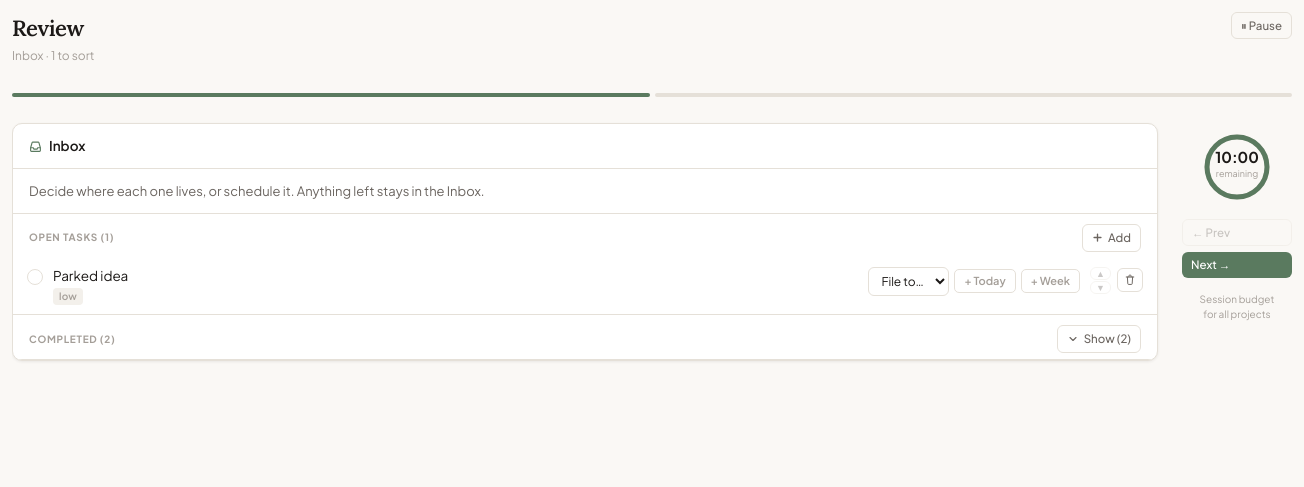
Test: ReviewView completed tasks › opens the whole list on request, and searches it
Click the button "Show (2)" at [1099, 339], box [1057,326,1141,353]
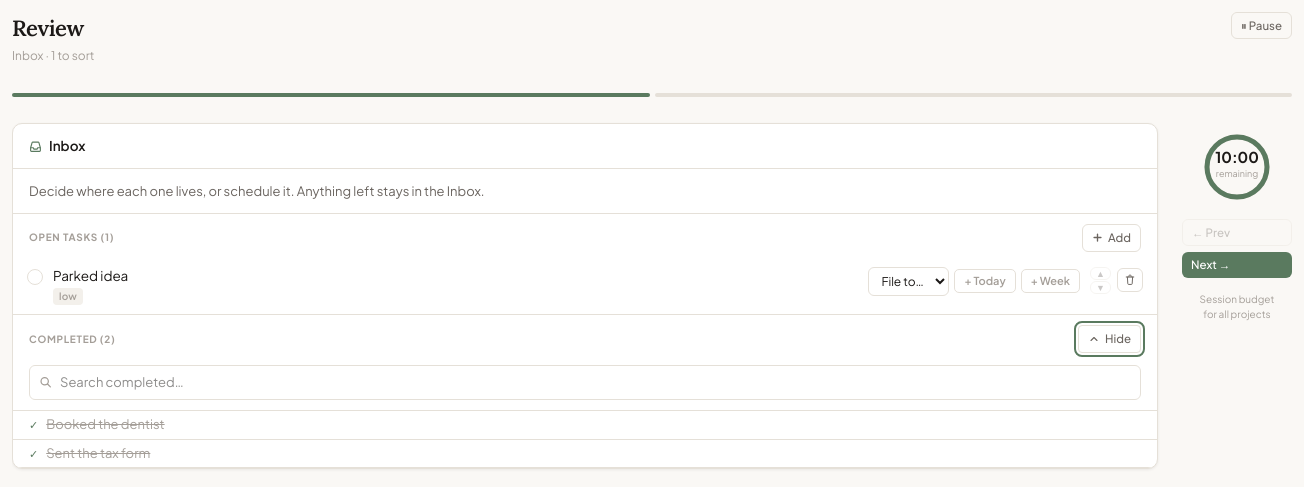
Expected: the text "Booked the dentist" is shown, [46,415,165,435]
Expected: the text "Sent the tax form" is shown, [46,444,150,463]
Type "tax" into the field labelled "Search completed…" at [585, 382], box [29,365,1141,400]
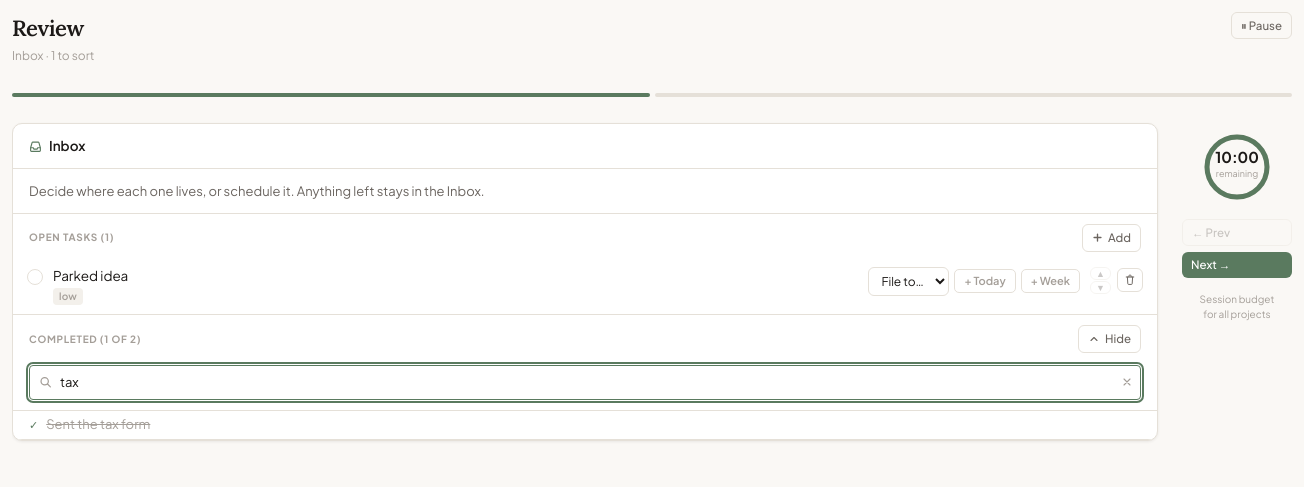
Expected: the text "Sent the tax form" is shown, [46,415,150,435]
Expected: the text "Booked the dentist" is gone
